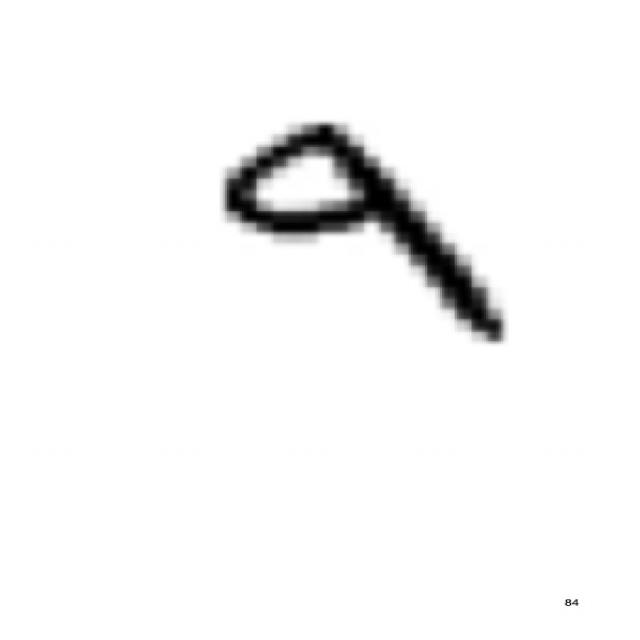9 -nine-: (191, 106, 525, 354)
